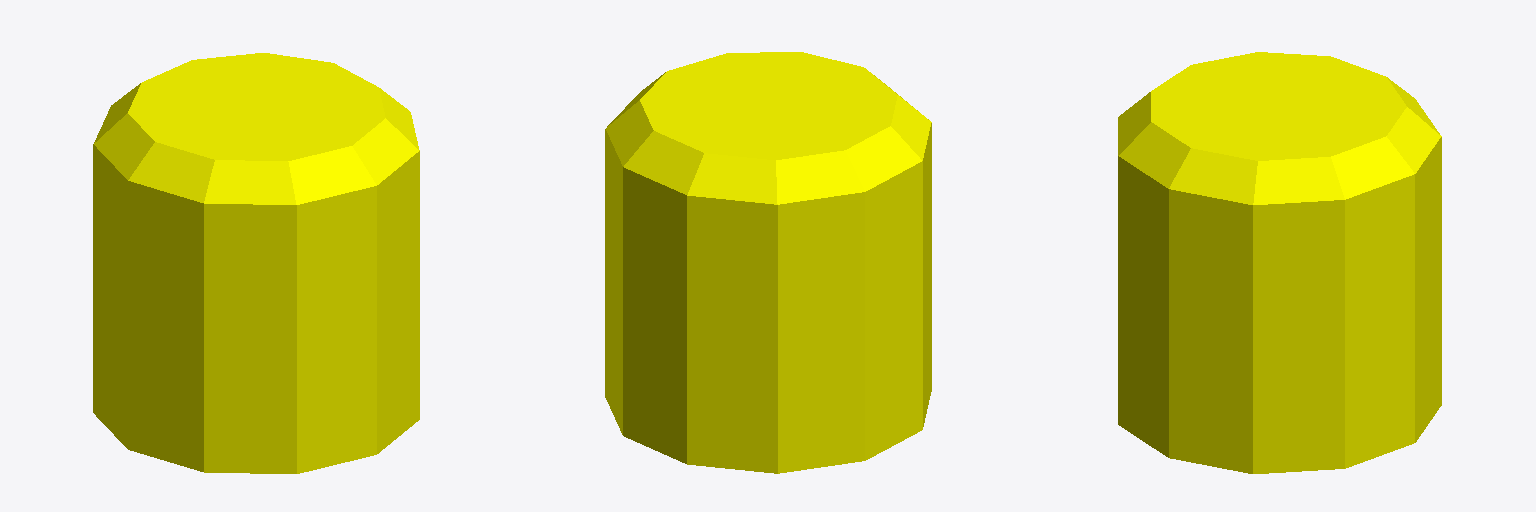
The model's file is up_button.obj.
3 views of the same model, side by side, from view 1: azimuth 30°, elevation 25°; view 2: azimuth 150°, elevation 25°; view 3: azimuth 270°, elevation 25° (orthographic).
Parts seen in each view (by area): view 1: up; view 2: up; view 3: up.
Boxes of the visible parts, box(x1,y1,x2,y2) form: up: box(93, 53, 419, 473); up: box(605, 52, 931, 473); up: box(1118, 52, 1441, 473).
Size of the model in its own units: 0.1729 by 0.1746 by 0.1711.